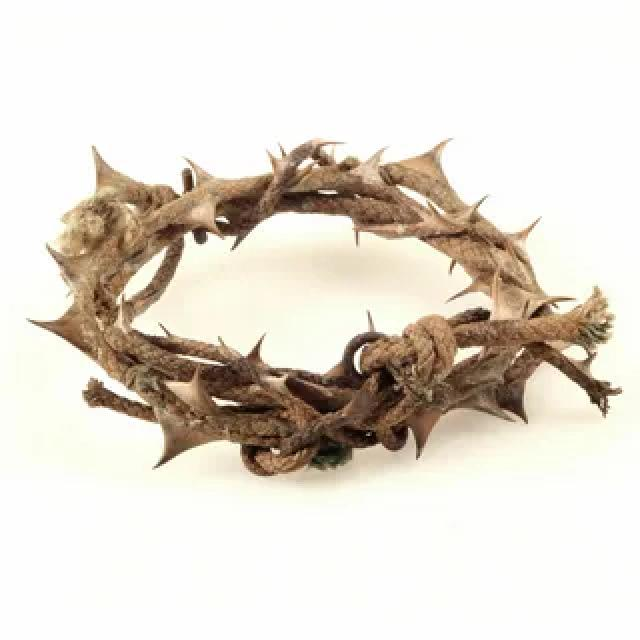crown: (52, 138, 616, 493)
